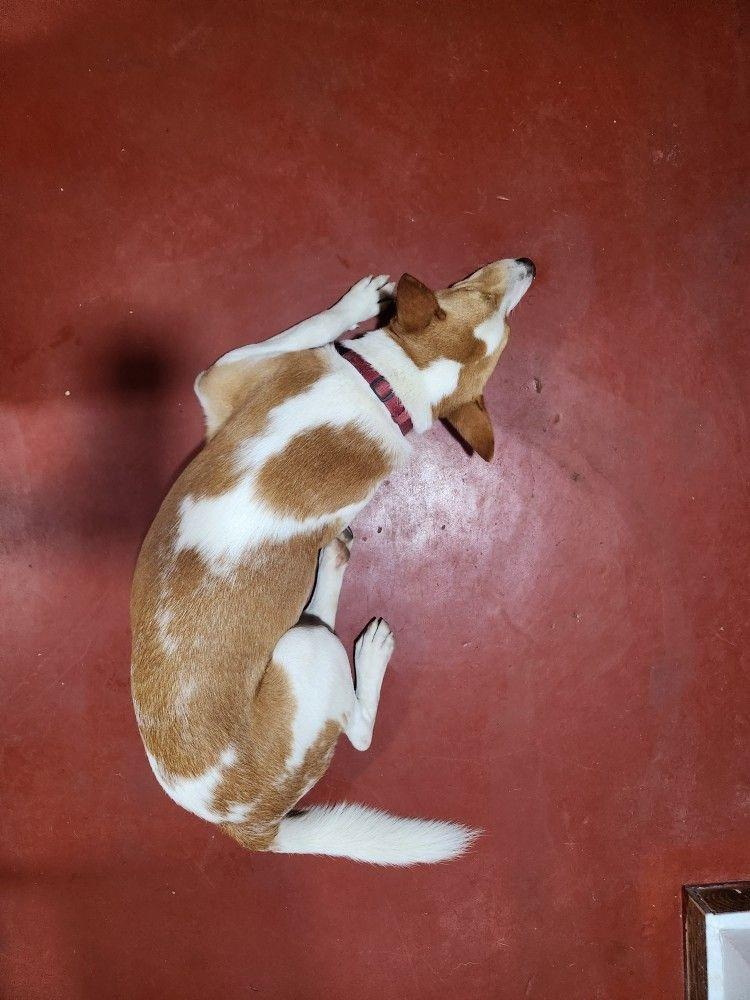adult_dog: (131, 255, 539, 868)
